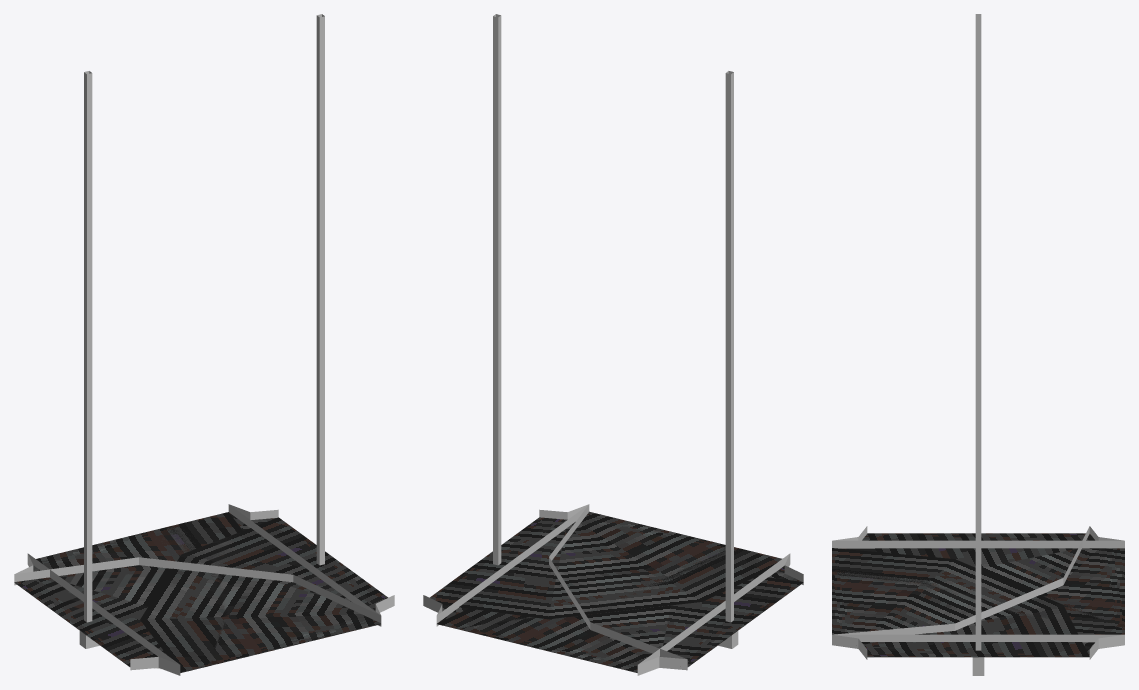
Rendered from cablerack.fbx.
3 views of the same model, side by side, from view 1: azimuth 30°, elevation 25°; view 2: azimuth 150°, elevation 25°; view 3: azimuth 270°, elevation 25° (orthographic). The views are drawn at different scales.
Visible parts, largest first — view 1: cablerack_corner.005, sasae, cablerack_tjunction, cablerack_corner.003, cablerack_straight; view 2: cablerack_corner.005, sasae, cablerack_straight, cablerack_corner.003, cablerack_tjunction; view 3: cablerack_corner.005, sasae, cablerack_straight, cablerack_corner.003, cablerack_tjunction.
Part boxes in pixels (left/top/right/bottom): cablerack_corner.005: left=14, top=504, right=394, bottom=672; sasae: left=79, top=14, right=324, bottom=648; cablerack_tjunction: left=20, top=504, right=380, bottom=670; cablerack_corner.003: left=14, top=557, right=381, bottom=675; cablerack_straight: left=28, top=504, right=380, bottom=672; cablerack_corner.005: left=423, top=504, right=803, bottom=672; sasae: left=493, top=14, right=738, bottom=648; cablerack_straight: left=436, top=505, right=789, bottom=672; cablerack_corner.003: left=549, top=504, right=803, bottom=658; cablerack_tjunction: left=436, top=505, right=795, bottom=675; cablerack_corner.005: left=832, top=526, right=1124, bottom=659; sasae: left=972, top=14, right=984, bottom=675; cablerack_straight: left=832, top=540, right=1124, bottom=642; cablerack_corner.003: left=834, top=526, right=1089, bottom=634; cablerack_tjunction: left=835, top=528, right=1123, bottom=642.
Bounding box in the file's own units: 100 × 207 × 100.
Materials: 1 (1 with a texture image).
